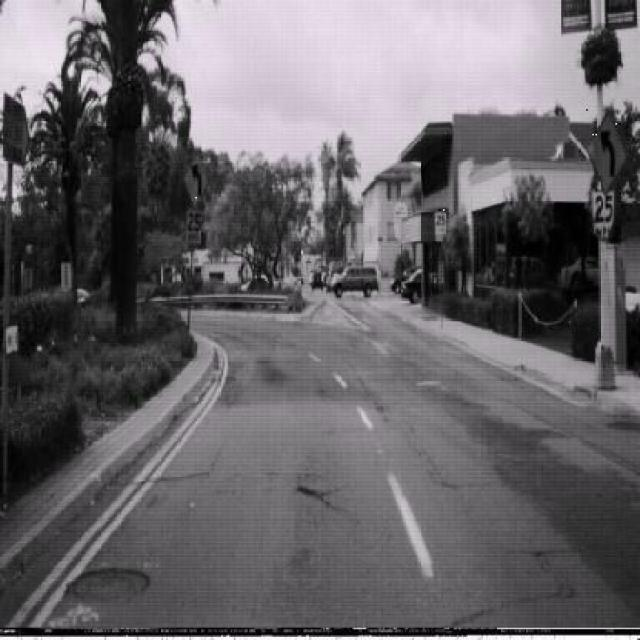curveLeft: (586, 108, 627, 194), (182, 148, 210, 208)
zoneAhead25: (434, 209, 446, 241)
